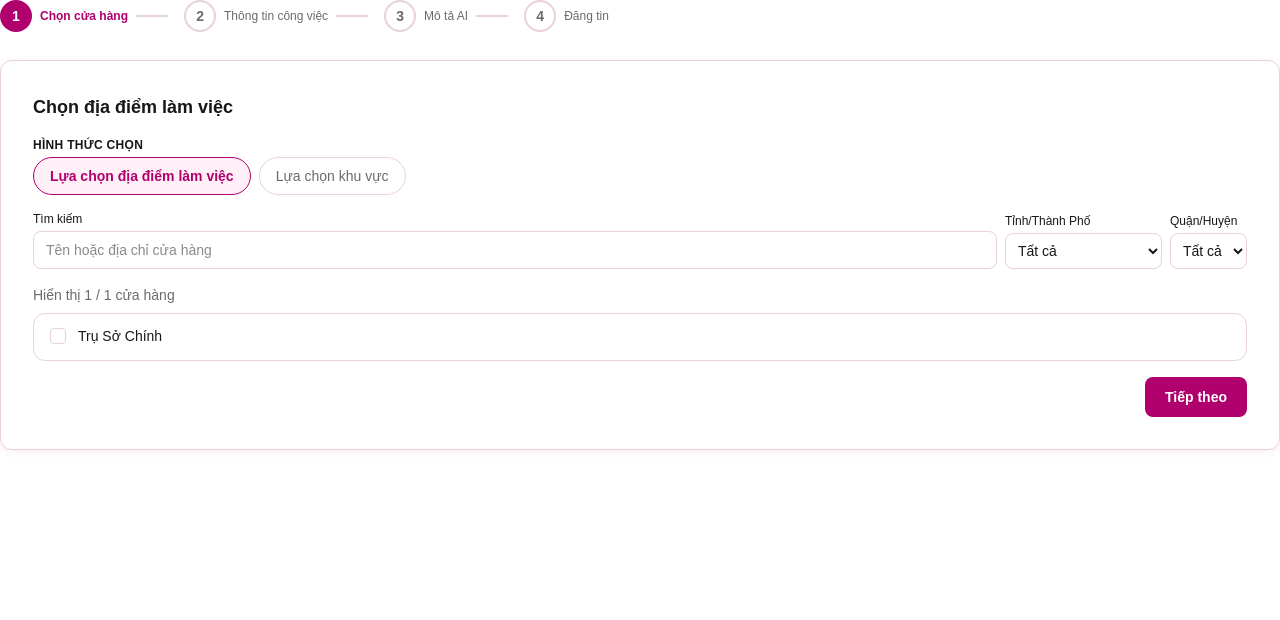
Test case: JobWizardPage › shows salaryMin, salaryMax inputs and salaryType selector on Step 2
Click the button labelled "Trụ Sở Chính". click: (120, 336)
box: x1=33 y1=313 x2=1247 y2=361
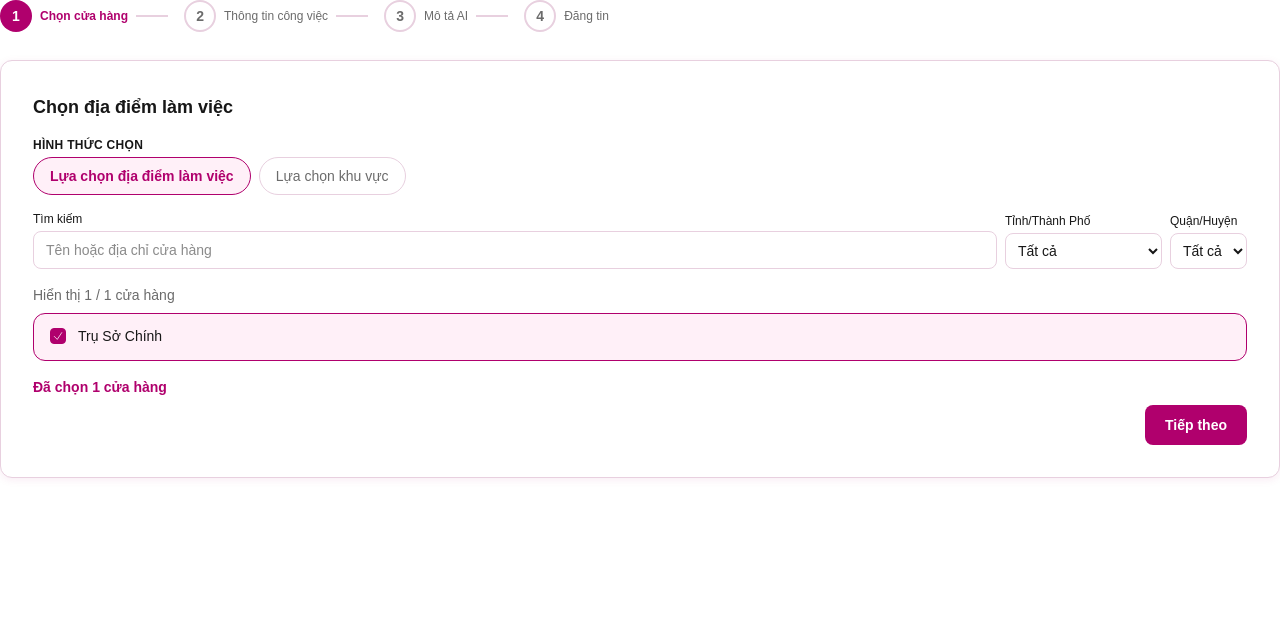
Click the button "Tiếp theo". click: (1196, 425)
box: x1=1145 y1=405 x2=1247 y2=445
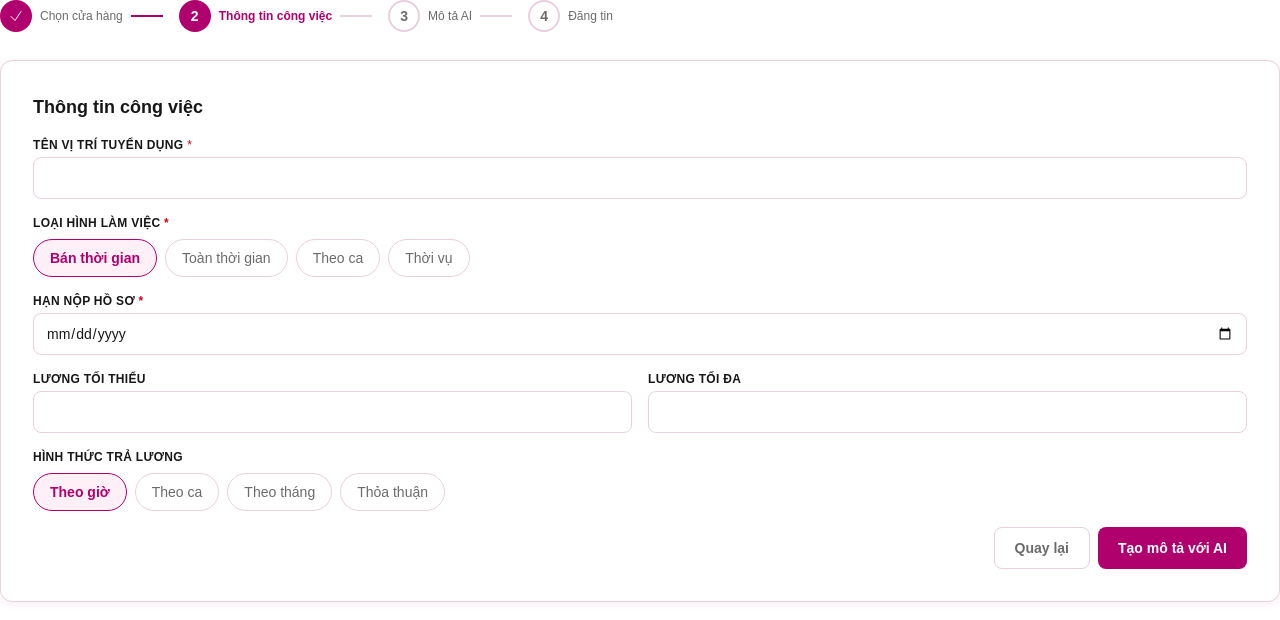
Check: the button "Tạo mô tả với AI" is shown, box x1=1098 y1=527 x2=1247 y2=569
Check: the number field labelled "Lương tối thiểu" is shown, box x1=33 y1=391 x2=632 y2=433
Check: the number field labelled "Lương tối đa" is shown, box x1=648 y1=391 x2=1247 y2=433
